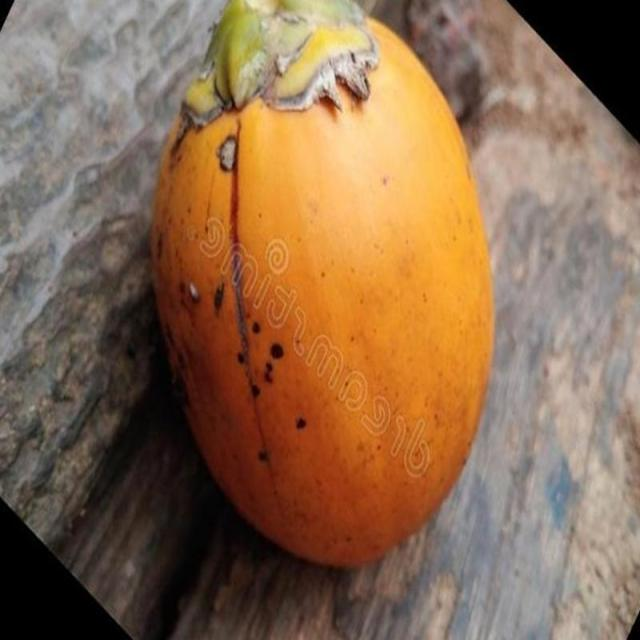good: (147, 0, 497, 574)
